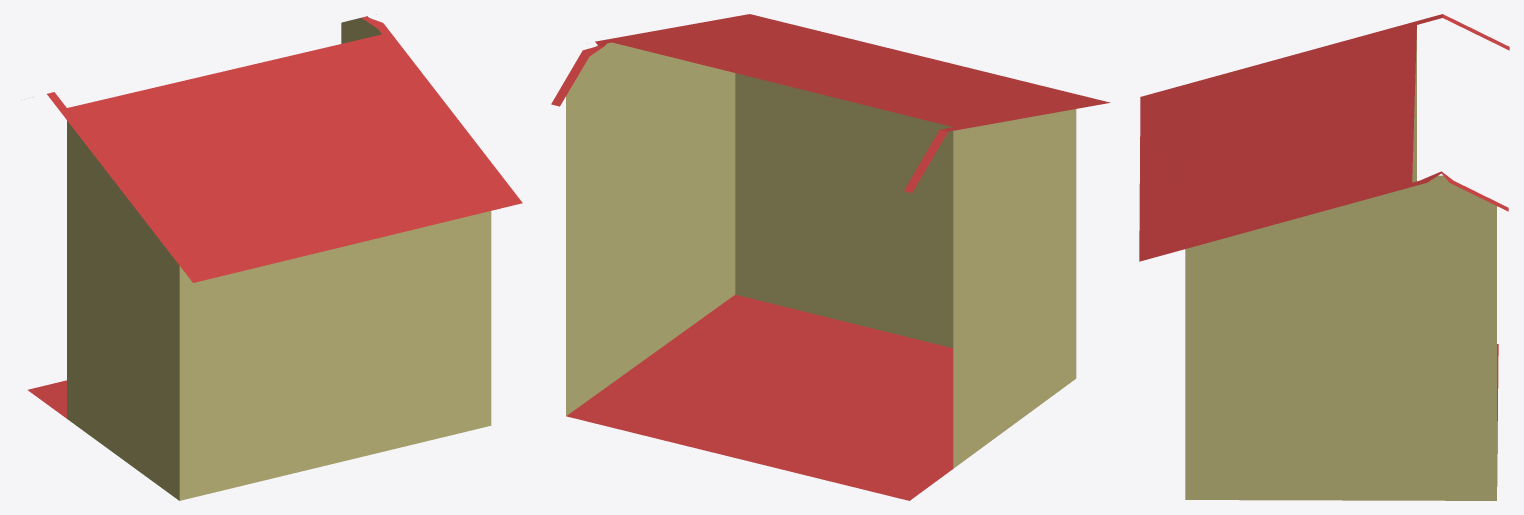
3 renders of one model, left to right at view 1: azimuth 30°, elevation 25°; view 2: azimuth 150°, elevation 25°; view 3: azimuth 270°, elevation 25°, orthographic. The views are drawn at different scales.
Size of the model in its own units: 9.61 by 9.1 by 8.84.
